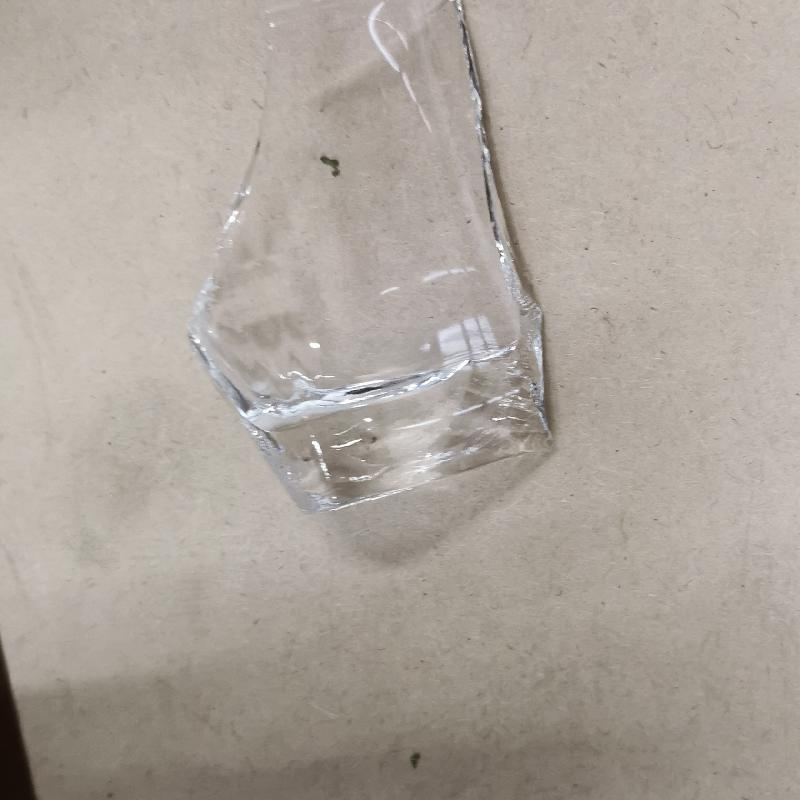glass: (186, 2, 555, 514)
